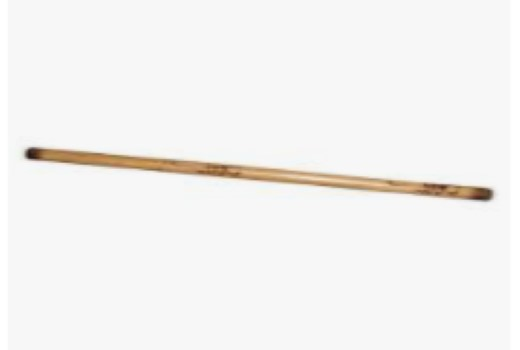baston_e: (35, 142, 477, 205)
baston_v: (469, 175, 500, 209), (17, 138, 39, 167)
